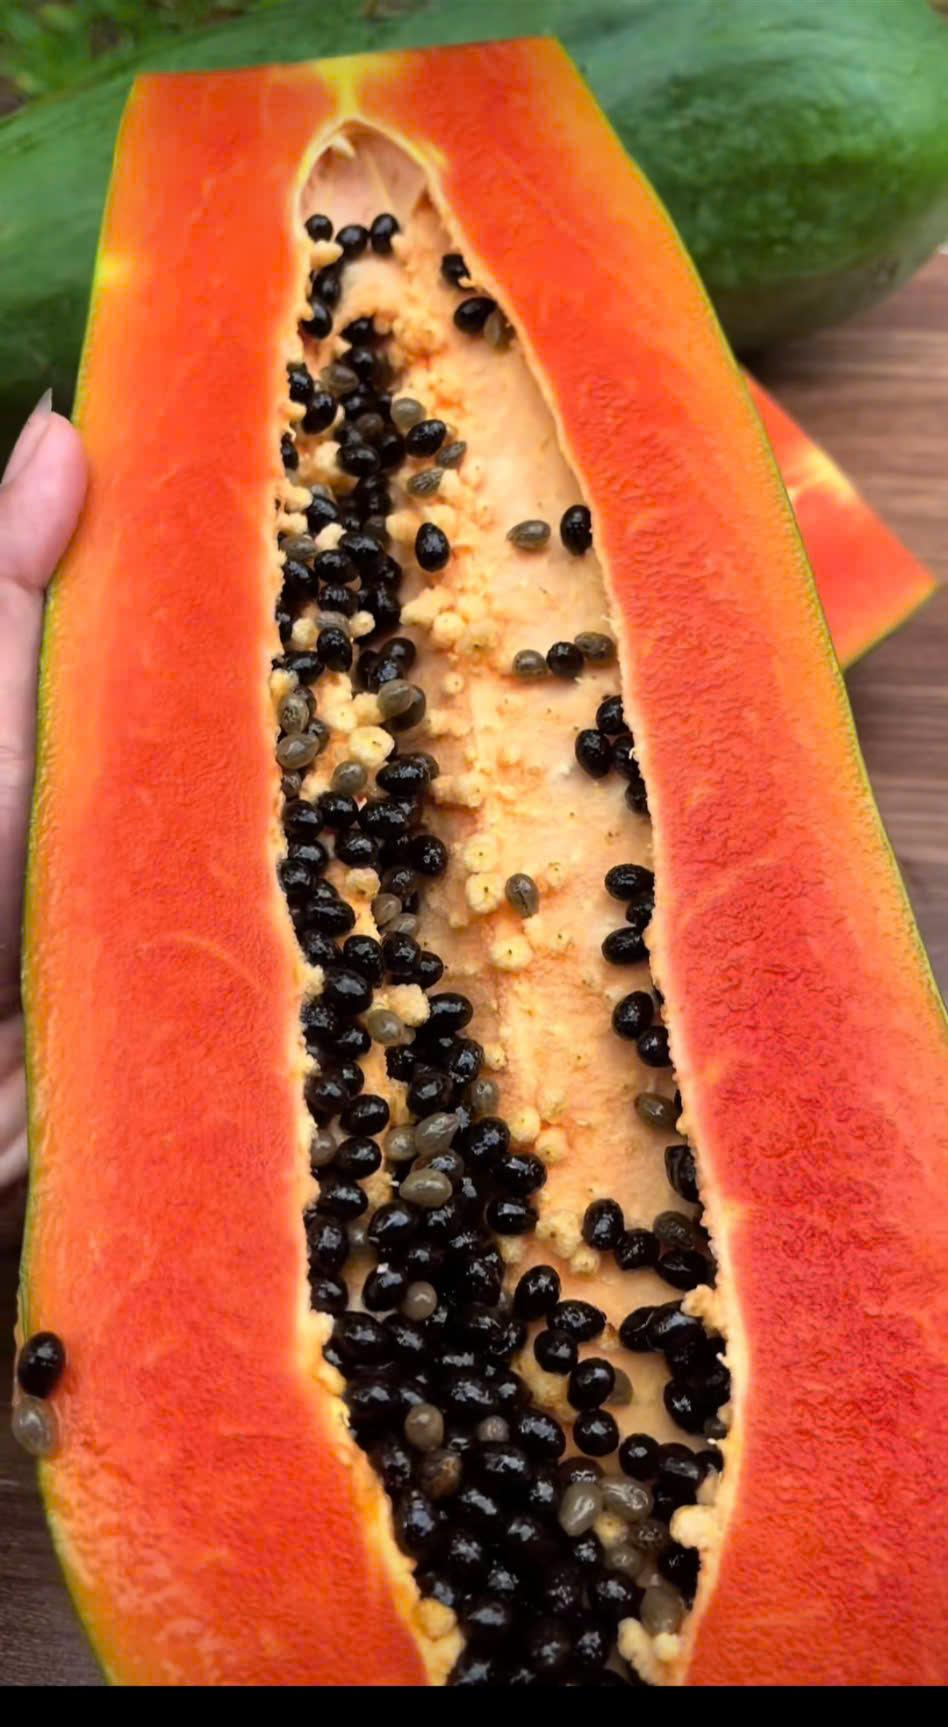papaya: (57, 37, 940, 1674)
